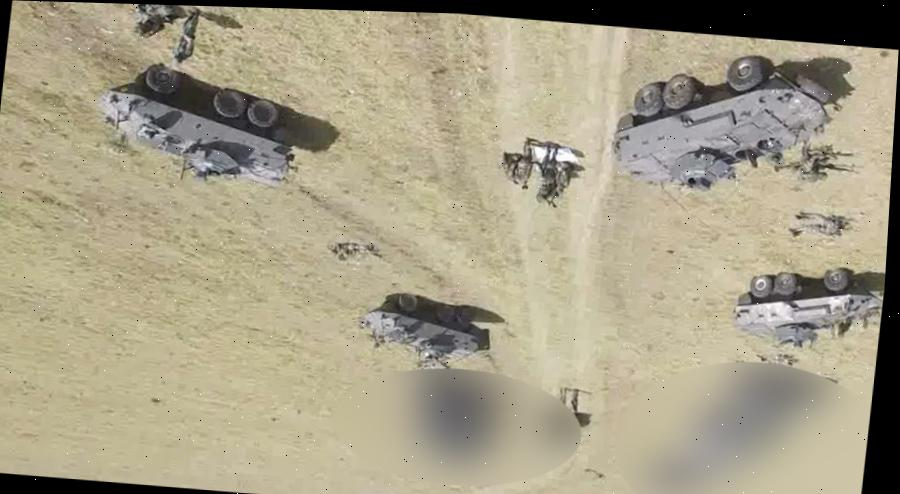armored_car: (608, 39, 841, 206), (90, 58, 308, 192), (728, 262, 886, 355), (358, 283, 496, 379)
